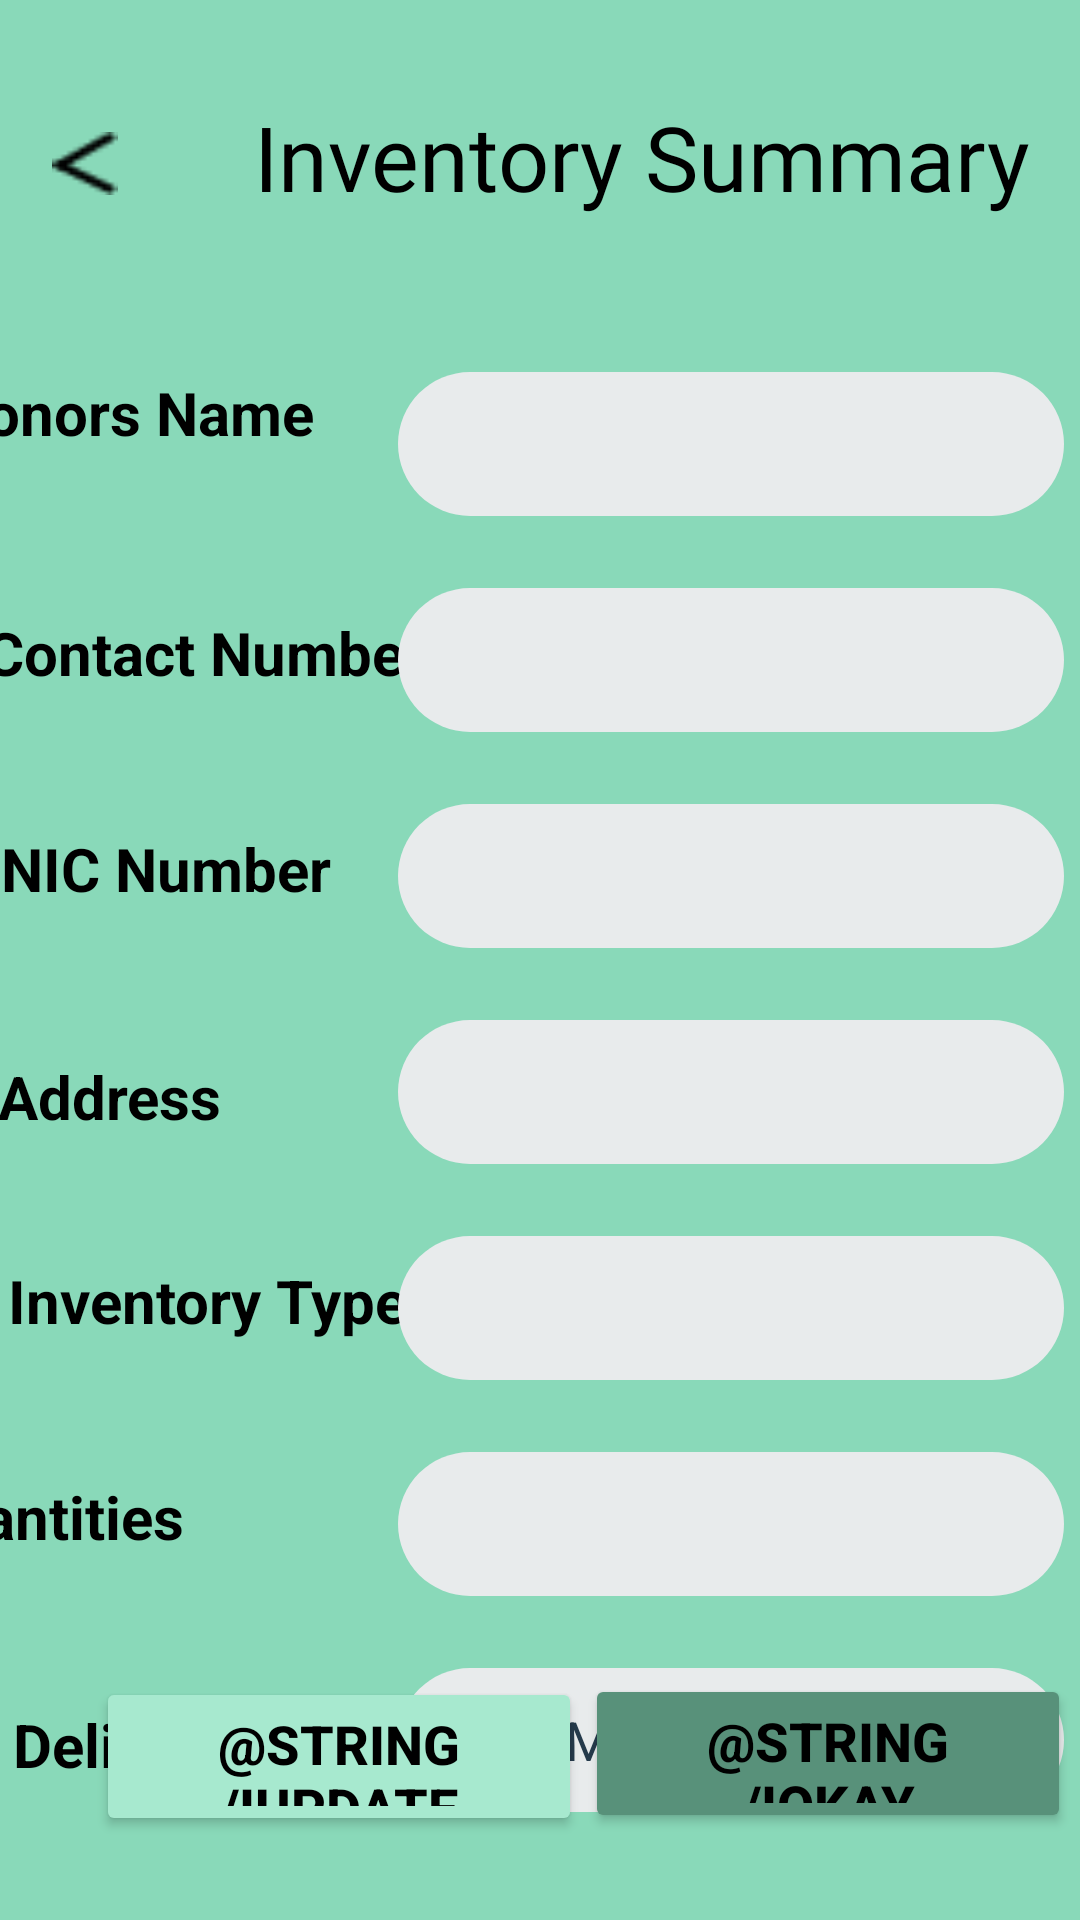

Icons on this 1080×1920 Android screen, each with the point to tap as [x,y]:
left: [85,163]
